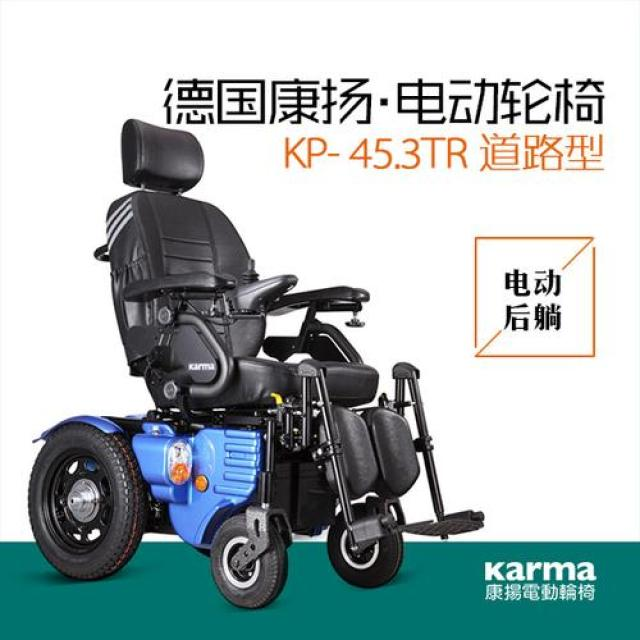wheelchairs: (18, 116, 492, 615)
